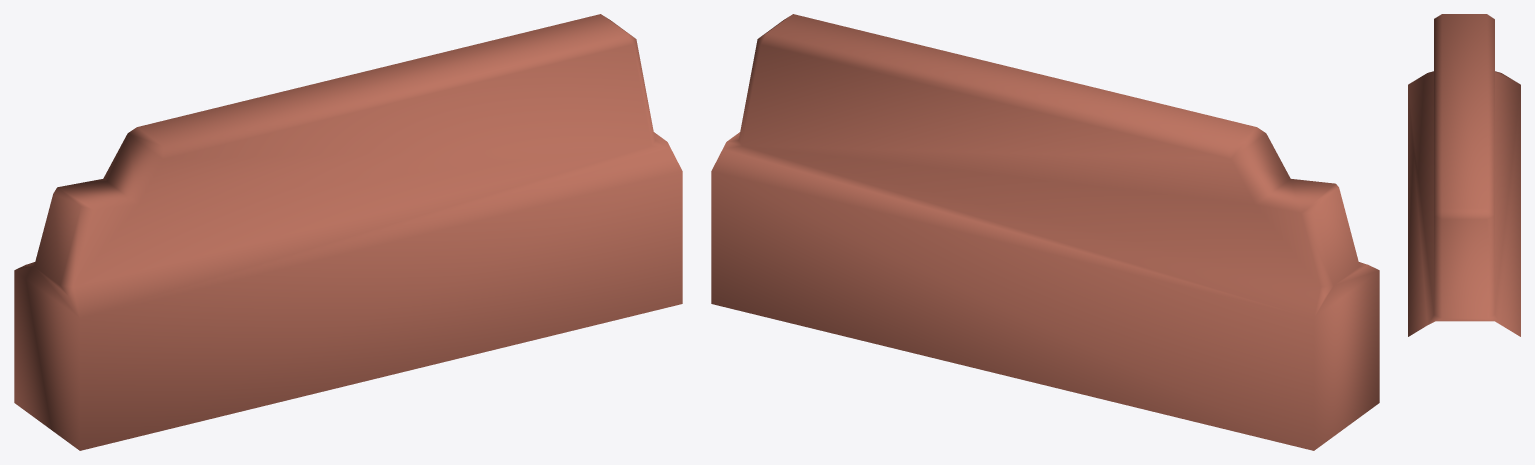
Rendered from SM_barricade_04.fbx.
3 renders of one model, left to right at view 1: azimuth 30°, elevation 25°; view 2: azimuth 150°, elevation 25°; view 3: azimuth 270°, elevation 25°, orthographic. The views are drawn at different scales.
Parts seen in each view (by area): view 1: barricade_03; view 2: barricade_03; view 3: barricade_03.
Boxes of the visible parts, x1=… form: barricade_03: x1=14, y1=14, x2=682, y2=450; barricade_03: x1=711, y1=14, x2=1379, y2=450; barricade_03: x1=1408, y1=14, x2=1520, y2=336.
Bounding box in the file's own units: 411 × 173 × 77.68.
